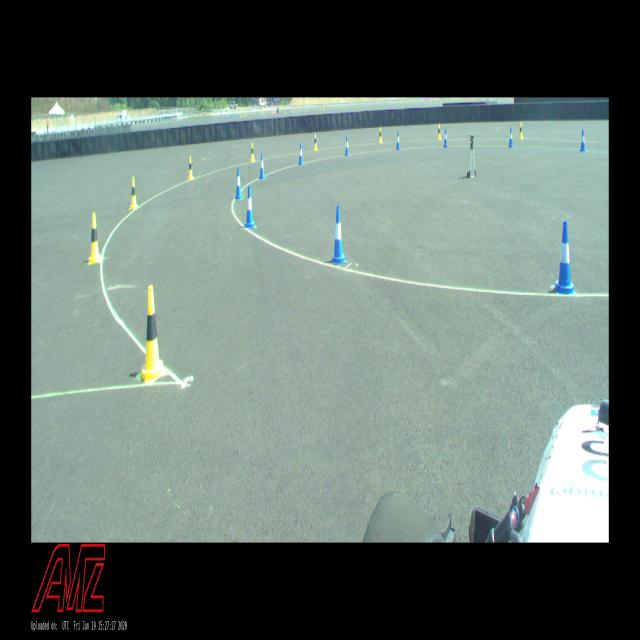blue_cone: (554, 221, 576, 294), (331, 206, 346, 264), (245, 185, 255, 228), (235, 167, 243, 199), (260, 154, 266, 179), (298, 143, 304, 165), (580, 130, 586, 151), (443, 128, 448, 146), (345, 136, 349, 156), (509, 127, 513, 147), (396, 132, 400, 150)
yellow_cone: (139, 285, 165, 383), (89, 214, 101, 263), (130, 177, 138, 209), (188, 156, 194, 179), (250, 143, 254, 162), (314, 134, 318, 150), (378, 127, 382, 143), (438, 124, 442, 140), (520, 122, 524, 138)
